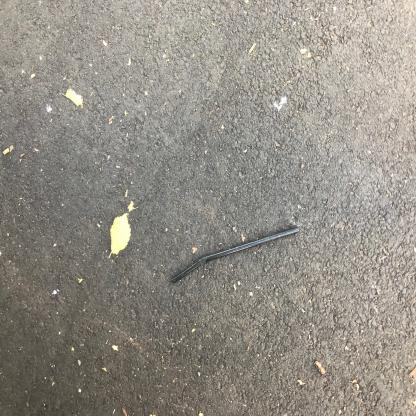trash: (94, 219, 150, 415)
